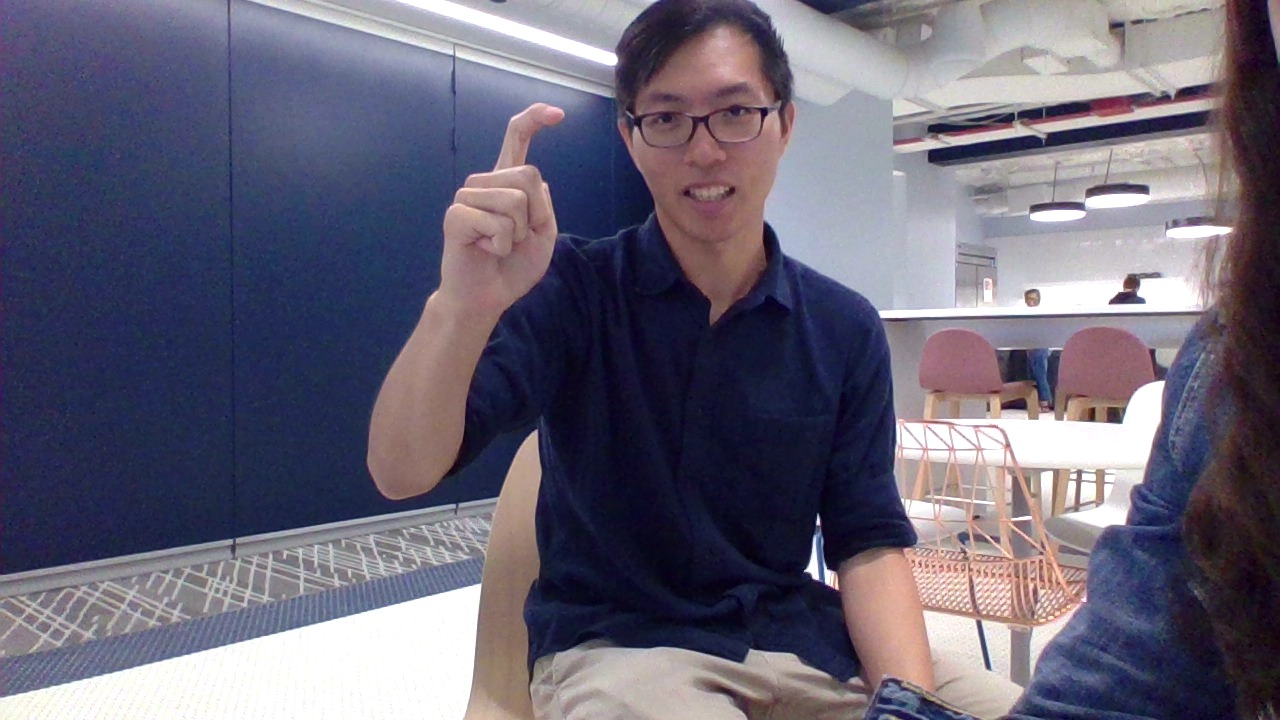x: (417, 93, 587, 343)
